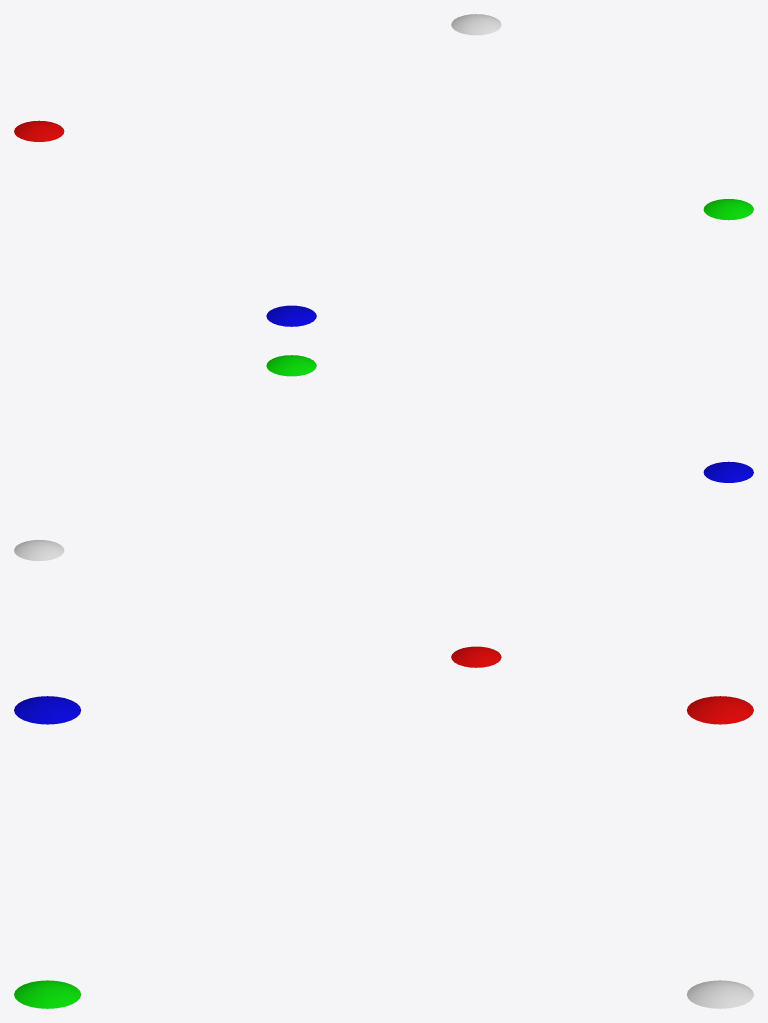
File: static_mesh.fbx
3 renders of one model, top to bottom at view 1: azimuth 30°, elevation 25°; view 2: azimuth 150°, elevation 25°; view 3: azimuth 270°, elevation 25°, orthographic. The views are drawn at different scales.
Visible parts, largest first — view 1: static_mesh; view 2: static_mesh; view 3: static_mesh.
Boxes of the visible parts, x1,y1,x2,y2 form: static_mesh: (14, 14, 753, 326); static_mesh: (14, 355, 753, 667); static_mesh: (14, 696, 753, 1008).
Bounding box in the file's own units: 11 × 0.112 × 11.
